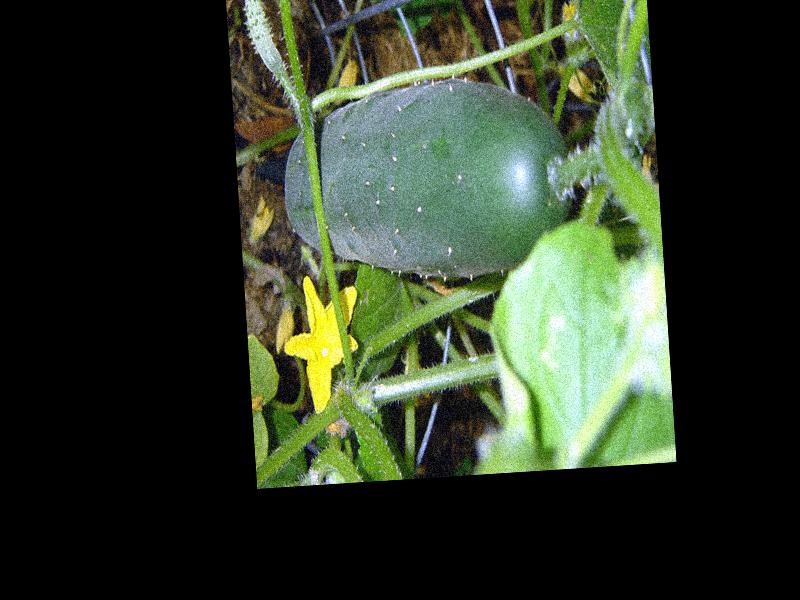Cucumber: (279, 69, 576, 287)
